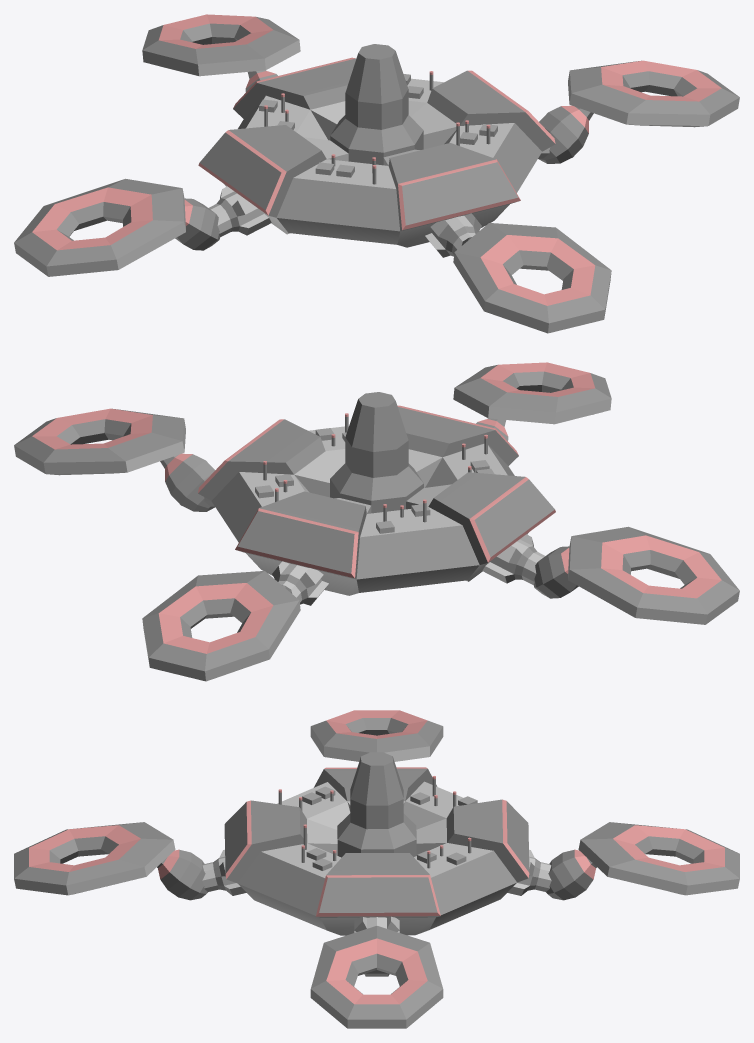
Rendered from DroneBaseModel.fbx.
The picture shows the model from 3 angles, top to bottom: view 1: azimuth 30°, elevation 25°; view 2: azimuth 150°, elevation 25°; view 3: azimuth 270°, elevation 25°; orthographic projection. The views are drawn at different scales.
Visible parts, largest first — view 1: DroneBody1; view 2: DroneBody1; view 3: DroneBody1.
Boxes of the visible parts, <box> form: DroneBody1: <box>14,14,739,333</box>; DroneBody1: <box>14,362,739,681</box>; DroneBody1: <box>14,710,739,1028</box>.
Size of the model in its own units: 17.54 by 3.67 by 17.54.
